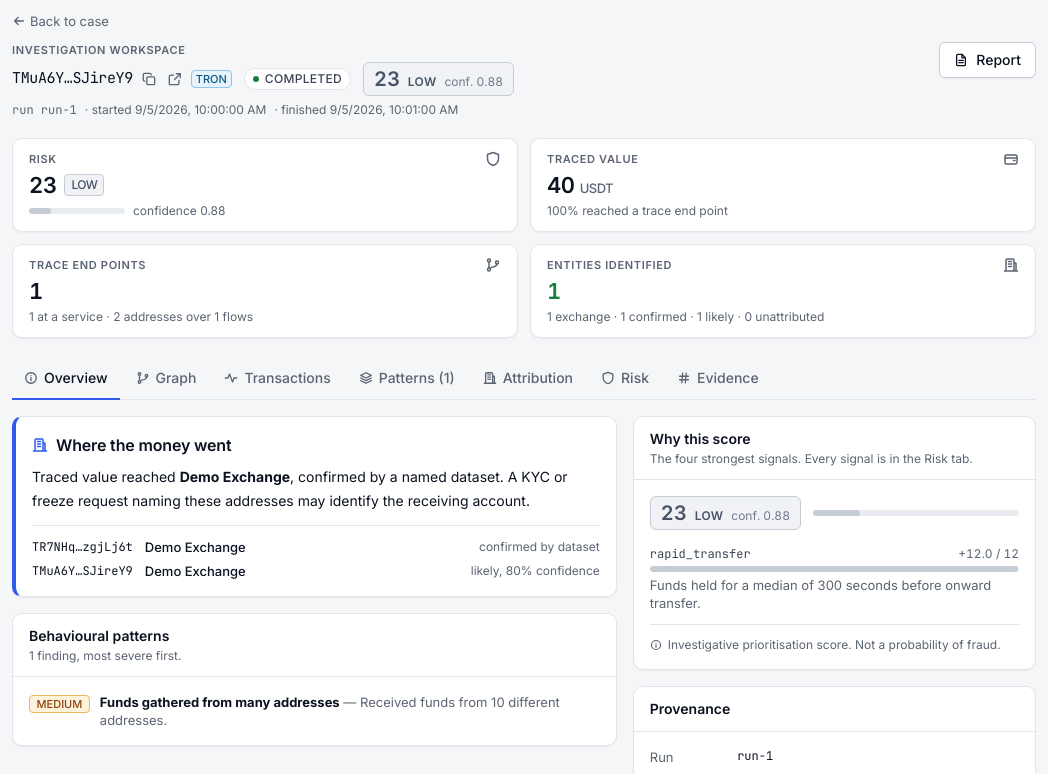
Test case: investigation workspace › never shows a pattern without what else produces its shape
Expected: the heading "Where the money went" is shown, [32,435,232,455]
Click the tab "Patterns (1)" at (407, 379), box [347,358,467,400]
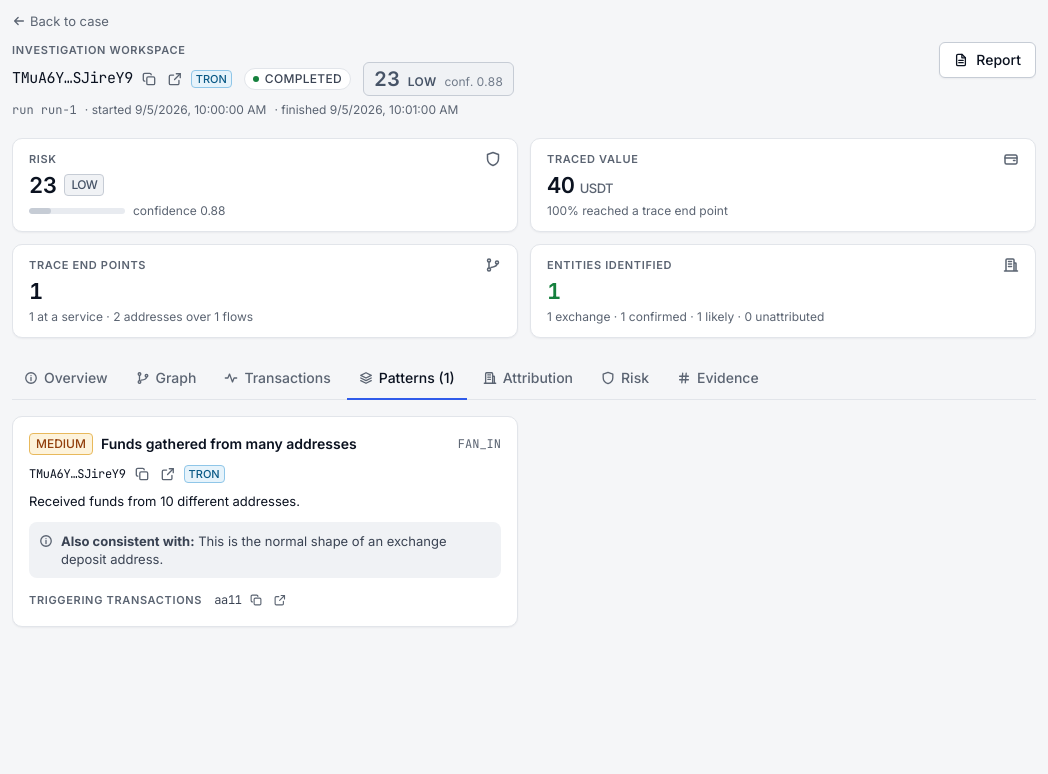
Expected: the text "Received funds from 10 different addresses." is shown, [29,493,300,509]
Result: the text "Also consistent with:" is shown at [61,533,194,549]
Result: the text "normal shape of an exchange deposit address" is shown at [61,533,446,567]
